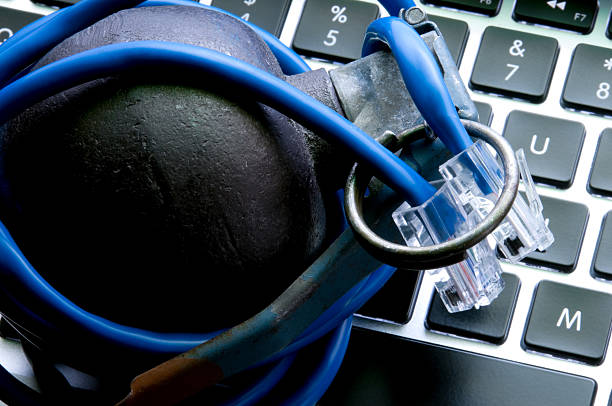e1: (3, 3, 511, 398)
